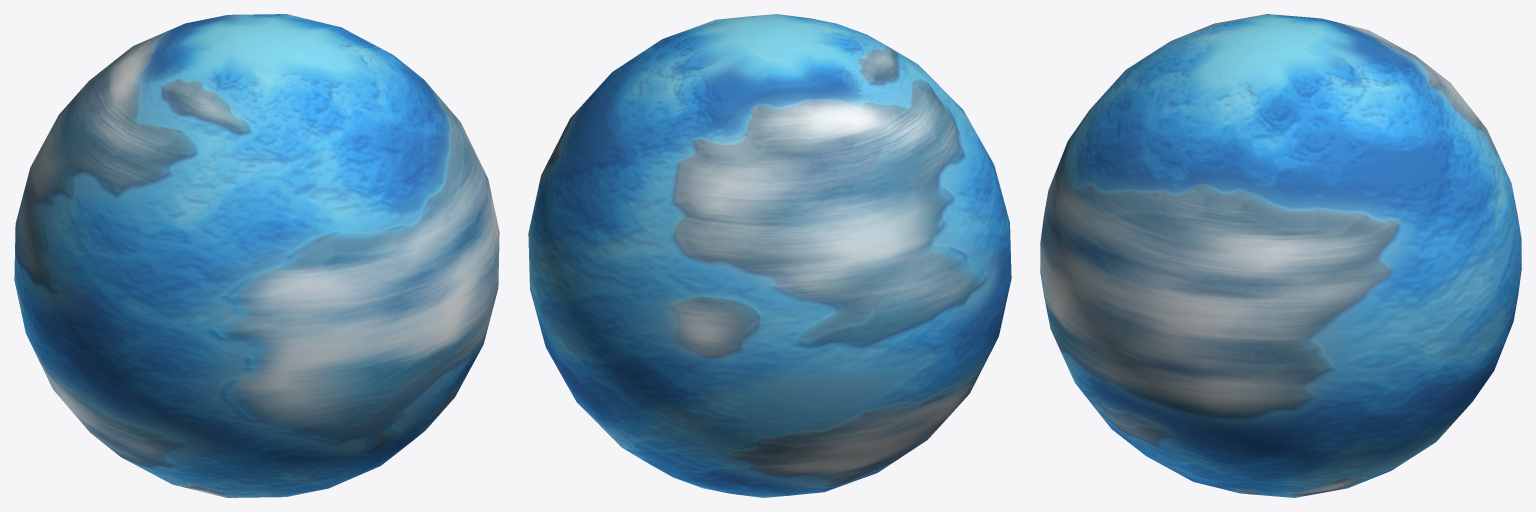
Rendered from Planet06.obj.
The picture shows the model from 3 angles, left to right: view 1: azimuth 30°, elevation 25°; view 2: azimuth 150°, elevation 25°; view 3: azimuth 270°, elevation 25°; orthographic projection.
Parts seen in each view (by area): view 1: GeoSphere01 Mesh; view 2: GeoSphere01 Mesh; view 3: GeoSphere01 Mesh.
Boxes of the visible parts, x1,y1,x2,y2 form: GeoSphere01 Mesh: (14, 14, 499, 497); GeoSphere01 Mesh: (528, 14, 1011, 497); GeoSphere01 Mesh: (1040, 14, 1521, 497).
Size of the model in its own units: 116 by 117 by 116.
Materials: 1 (1 with a texture image).
